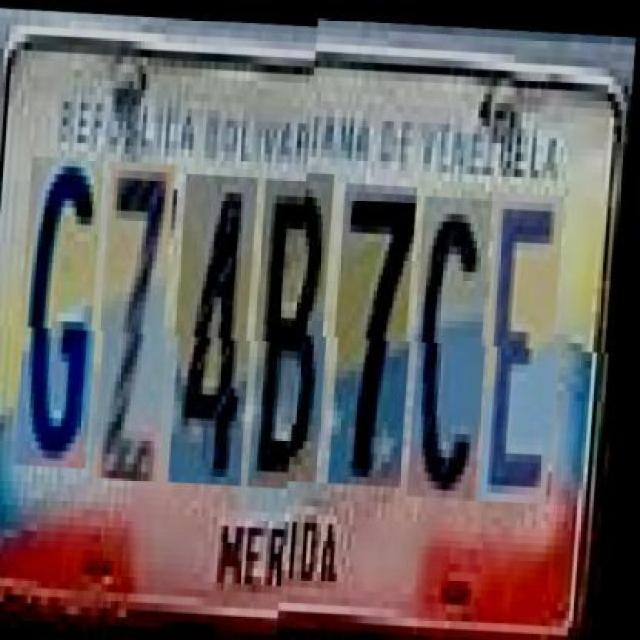4: (176, 172, 264, 482)
7: (334, 187, 424, 490)
b: (255, 176, 340, 487)
c: (414, 198, 498, 502)
e: (485, 193, 570, 504)
g: (21, 157, 110, 468)
z: (100, 159, 182, 479)
